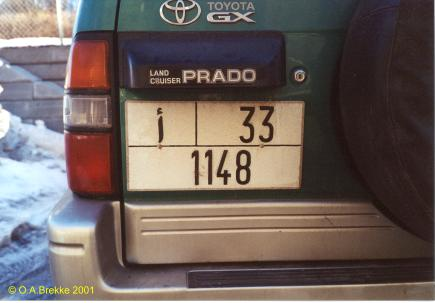number_plate: (127, 99, 304, 191)
